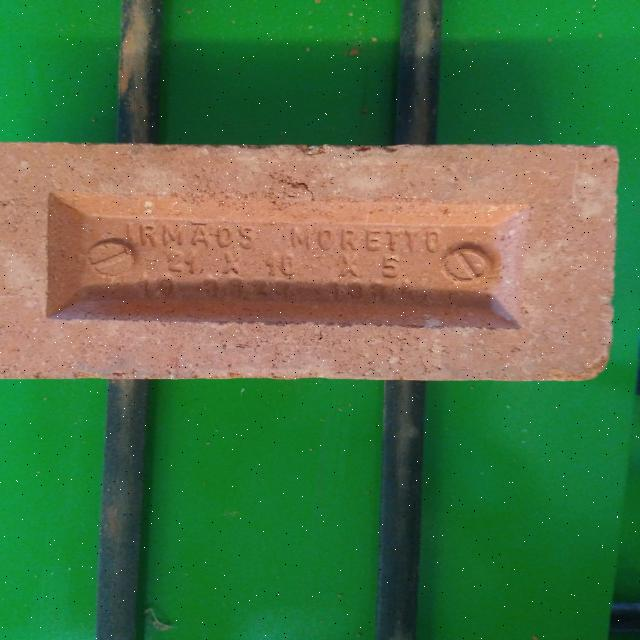bricks: (0, 140, 620, 378)
